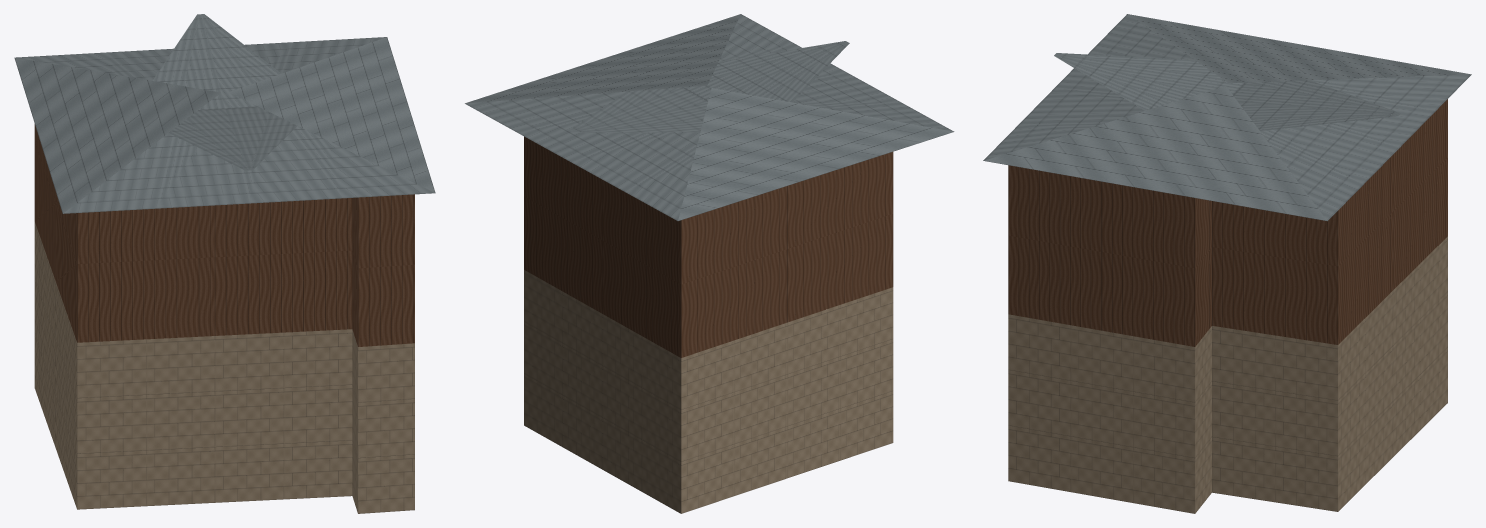
The model's file is bld_c10_7_518.gltf.
The picture shows the model from 3 angles, left to right: view 1: azimuth 30°, elevation 25°; view 2: azimuth 150°, elevation 25°; view 3: azimuth 270°, elevation 25°; orthographic projection. The views are drawn at different scales.
Parts seen in each view (by area): view 1: bld_c10_7_518; view 2: bld_c10_7_518; view 3: bld_c10_7_518.
Part boxes in pixels (box(x1,y1,x2,y2)): bld_c10_7_518: box(14, 14, 435, 513); bld_c10_7_518: box(465, 14, 954, 513); bld_c10_7_518: box(983, 14, 1471, 513).
Bounding box in the file's own units: 13.43 × 10.8 × 13.39.
Materials: 3 (3 with a texture image).
